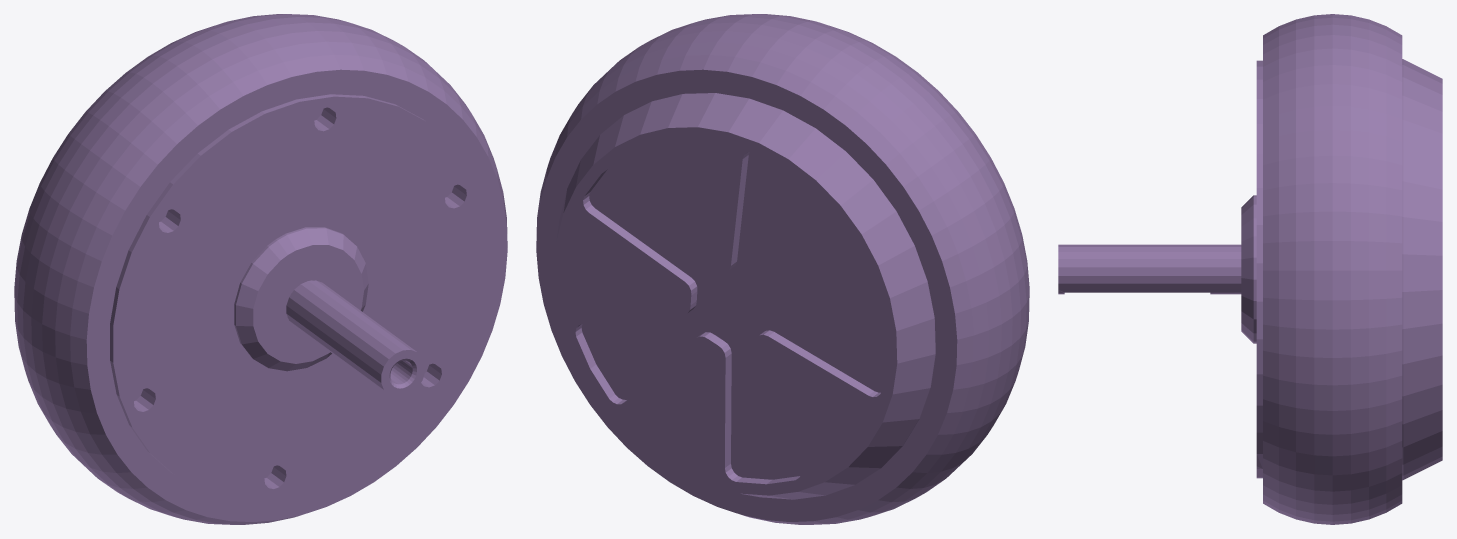
The model's file is wheel_right_link.glb.
3 renders of one model, left to right at view 1: azimuth 30°, elevation 25°; view 2: azimuth 150°, elevation 25°; view 3: azimuth 270°, elevation 25°, orthographic. The views are drawn at different scales.
Bounding box in the file's own units: 0.165 × 0.165 × 0.124.
